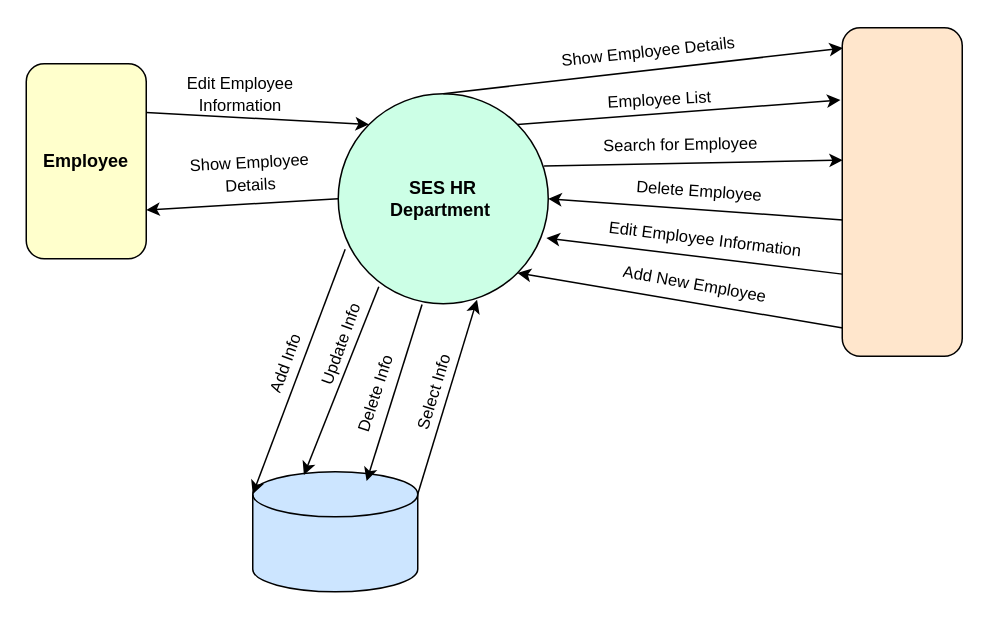
Image size: 989x620. Some labels were removed from this diagram. Here are the shapes that lost their labels. From the top down, the centre of each, then its label:
At [901,191]: "Manager".
At [334,531]: "DB".
